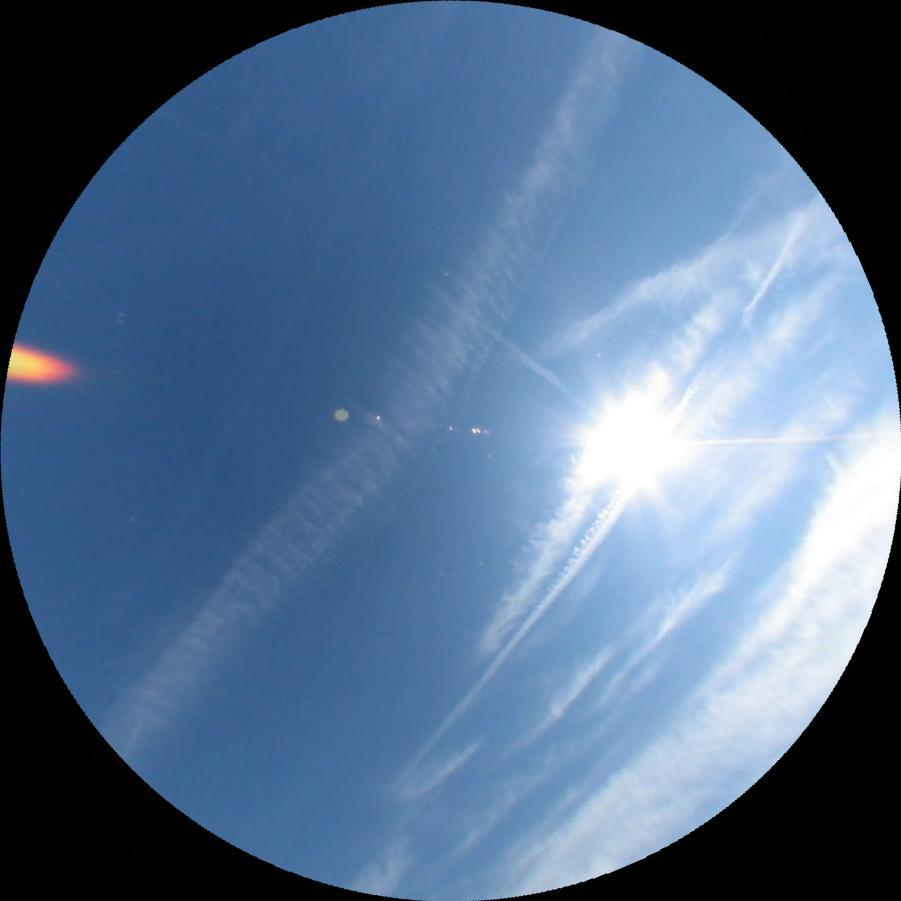contrail veryold: (87, 14, 695, 800), (384, 194, 842, 809), (455, 268, 751, 660), (526, 191, 845, 372), (427, 282, 603, 419)
parasite: (677, 429, 899, 450)
sun: (571, 396, 683, 500)
